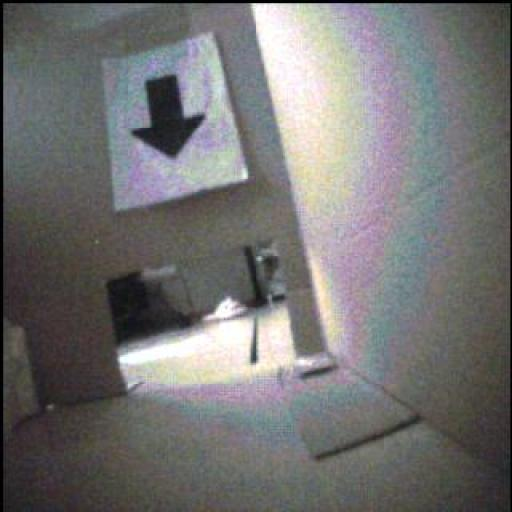arrow: (132, 76, 206, 158)
